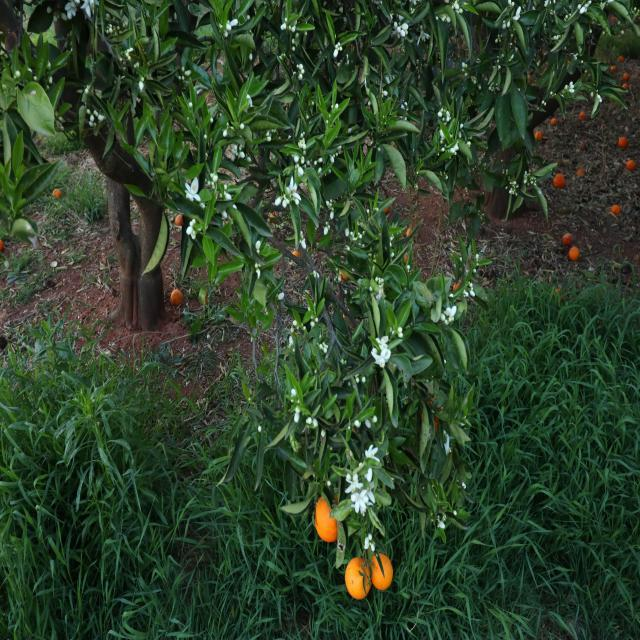Bunga: (286, 176, 301, 203), (185, 177, 200, 203), (360, 481, 376, 504), (370, 348, 390, 366), (352, 490, 366, 514), (344, 474, 362, 492), (81, 0, 98, 17), (365, 444, 380, 463), (417, 30, 430, 45), (66, 1, 76, 19), (376, 336, 388, 350), (300, 231, 308, 249), (513, 6, 521, 22), (294, 407, 300, 423), (449, 305, 456, 318), (210, 173, 218, 183), (326, 200, 334, 210), (229, 19, 239, 27), (438, 520, 446, 530), (454, 4, 462, 14), (364, 418, 372, 428), (298, 140, 306, 150), (186, 227, 194, 236), (274, 197, 282, 206), (394, 23, 402, 32), (297, 166, 304, 176), (225, 21, 232, 31), (364, 536, 369, 550), (138, 81, 144, 92), (189, 218, 196, 227), (294, 196, 300, 206), (282, 198, 288, 208), (208, 182, 215, 190), (289, 336, 294, 347), (336, 42, 342, 51), (454, 142, 460, 151), (191, 230, 196, 240), (398, 327, 403, 337), (280, 23, 287, 30), (401, 23, 408, 30), (507, 0, 514, 7), (544, 0, 551, 7), (294, 154, 300, 162), (277, 292, 283, 300), (440, 313, 446, 321), (470, 290, 476, 298), (468, 282, 474, 290), (378, 278, 384, 286), (580, 6, 586, 14), (488, 84, 494, 92), (232, 145, 237, 154), (98, 114, 105, 120), (226, 193, 232, 200), (323, 227, 329, 234), (400, 29, 406, 36), (300, 156, 305, 164), (256, 240, 260, 250), (291, 25, 296, 33), (223, 30, 228, 38), (307, 416, 312, 424), (93, 110, 99, 116), (89, 121, 95, 127), (246, 156, 252, 162), (266, 136, 272, 142), (298, 64, 304, 70), (334, 49, 338, 58), (446, 307, 450, 316), (450, 148, 456, 154), (382, 90, 388, 96), (372, 416, 378, 422), (322, 342, 328, 348), (471, 76, 477, 82), (336, 145, 342, 151), (597, 95, 602, 102), (330, 156, 335, 163), (330, 212, 334, 220), (372, 544, 376, 552), (440, 130, 444, 138), (322, 430, 326, 438), (446, 116, 451, 122), (466, 140, 471, 146), (354, 421, 360, 426), (355, 377, 360, 383), (292, 321, 298, 326), (310, 322, 315, 328), (502, 23, 507, 29), (568, 88, 574, 93), (553, 35, 559, 40), (318, 157, 323, 163), (86, 108, 90, 115), (223, 130, 227, 137), (438, 111, 442, 118), (90, 115, 94, 121), (240, 124, 244, 130), (240, 152, 244, 158), (298, 73, 302, 79), (462, 62, 466, 68), (440, 138, 444, 144), (458, 130, 461, 138), (444, 174, 448, 180), (507, 20, 510, 28), (570, 82, 574, 88), (300, 69, 304, 74), (362, 377, 366, 382), (319, 344, 323, 349), (564, 84, 568, 89), (578, 4, 582, 9), (210, 118, 213, 124), (224, 184, 227, 190), (446, 111, 449, 117), (460, 123, 463, 129), (415, 184, 418, 190), (512, 184, 516, 188), (346, 228, 348, 236), (510, 55, 514, 59), (588, 0, 592, 4), (585, 4, 589, 8), (306, 160, 310, 164), (465, 187, 468, 192), (591, 92, 594, 97), (495, 38, 498, 43), (509, 190, 512, 194), (513, 181, 516, 185), (511, 191, 514, 195), (515, 192, 518, 196), (524, 178, 526, 184), (524, 175, 527, 179), (530, 180, 533, 184), (324, 348, 327, 352), (525, 171, 527, 176), (440, 172, 442, 176), (514, 190, 516, 194), (498, 64, 500, 68), (474, 80, 476, 84), (510, 182, 512, 185), (534, 183, 536, 186), (534, 177, 536, 180), (510, 34, 513, 36), (510, 188, 512, 190), (526, 174, 528, 176), (529, 170, 531, 172)
Jeruk Sudah Matang: (315, 494, 339, 542), (346, 556, 372, 600), (370, 554, 393, 590)
